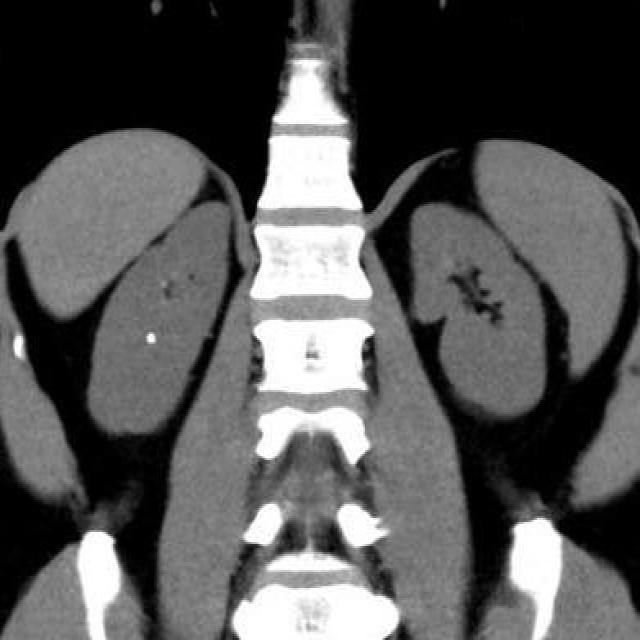Tas_Var: (143, 325, 158, 351)
